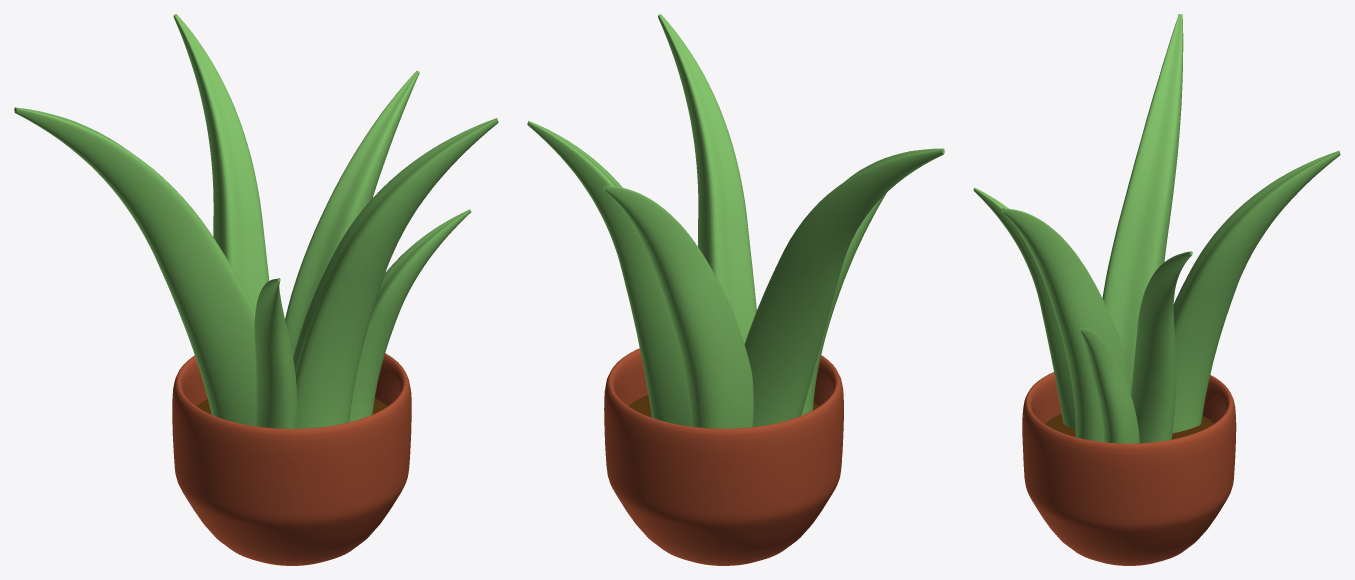
The model's file is plant.glb.
The picture shows the model from 3 angles, left to right: view 1: azimuth 30°, elevation 25°; view 2: azimuth 150°, elevation 25°; view 3: azimuth 270°, elevation 25°; orthographic projection. The views are drawn at different scales.
Visible parts, largest first — view 1: plant.001, NurbsPath.009, NurbsPath.008, NurbsPath.010, NurbsPath.011, NurbsPath.006, NurbsPath.007; view 2: plant.001, NurbsPath.009, NurbsPath.010, NurbsPath.008, NurbsPath.011, NurbsPath.007; view 3: plant.001, NurbsPath.009, NurbsPath.010, NurbsPath.008, NurbsPath.011, NurbsPath.006, NurbsPath.007, Circle.001.
Part boxes in pixels (x1,y1,x2,y2): plant.001: (172, 353, 411, 565); NurbsPath.009: (14, 107, 256, 426); NurbsPath.008: (293, 118, 498, 428); NurbsPath.010: (173, 14, 269, 309); NurbsPath.011: (285, 70, 419, 356); NurbsPath.006: (349, 209, 471, 422); NurbsPath.007: (254, 278, 297, 428); plant.001: (604, 348, 843, 565); NurbsPath.009: (744, 148, 944, 426); NurbsPath.010: (603, 186, 753, 428); NurbsPath.008: (658, 14, 756, 343); NurbsPath.011: (527, 120, 690, 426); NurbsPath.007: (801, 151, 910, 415); plant.001: (1022, 372, 1236, 565); NurbsPath.009: (1102, 14, 1183, 386); NurbsPath.010: (1172, 150, 1340, 432); NurbsPath.008: (1001, 208, 1131, 442); NurbsPath.011: (1131, 251, 1192, 443); NurbsPath.006: (1079, 328, 1139, 443); NurbsPath.007: (973, 187, 1075, 429); Circle.001: (1045, 413, 1214, 439).
Bounding box in the file's own units: 2.01 × 2.25 × 1.75.
